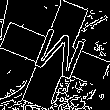M_S: (24, 23, 86, 87)
